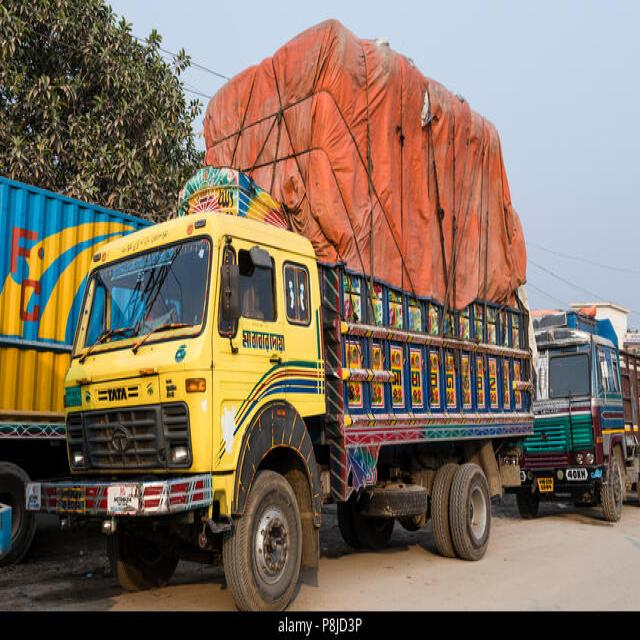goods: (204, 20, 526, 309)
truck: (26, 215, 532, 608), (516, 311, 640, 520)
